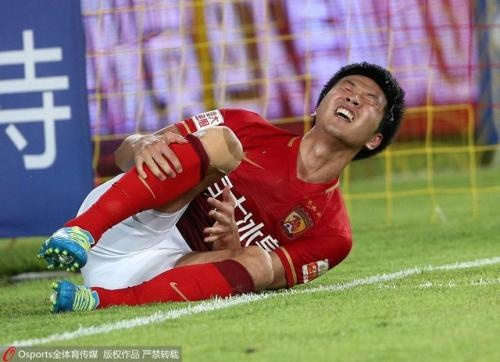falling: (33, 39, 418, 320)
